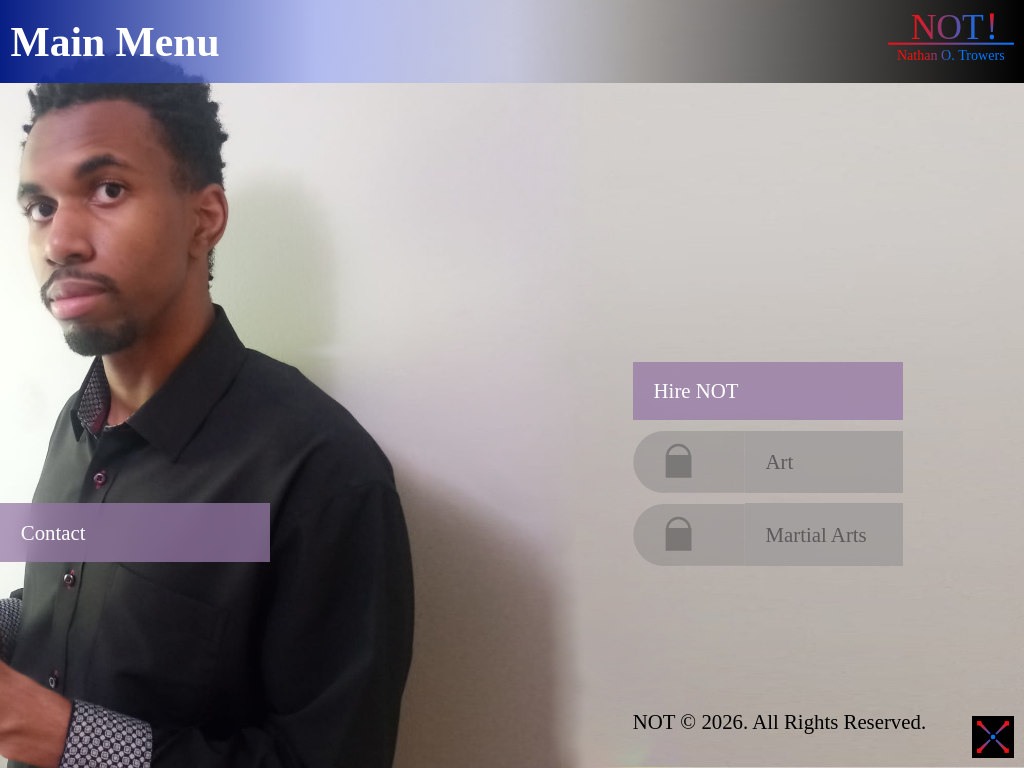
it: Landing Page › loads landing page, then navigates to the Hire NOT Page
Expected: the heading "Main Menu" is shown, [0,0,633,83]
Expected: the button "Art" is shown, [745,431,903,493]
Click the link "Hire NOT": (696, 391) [633,362,903,420]
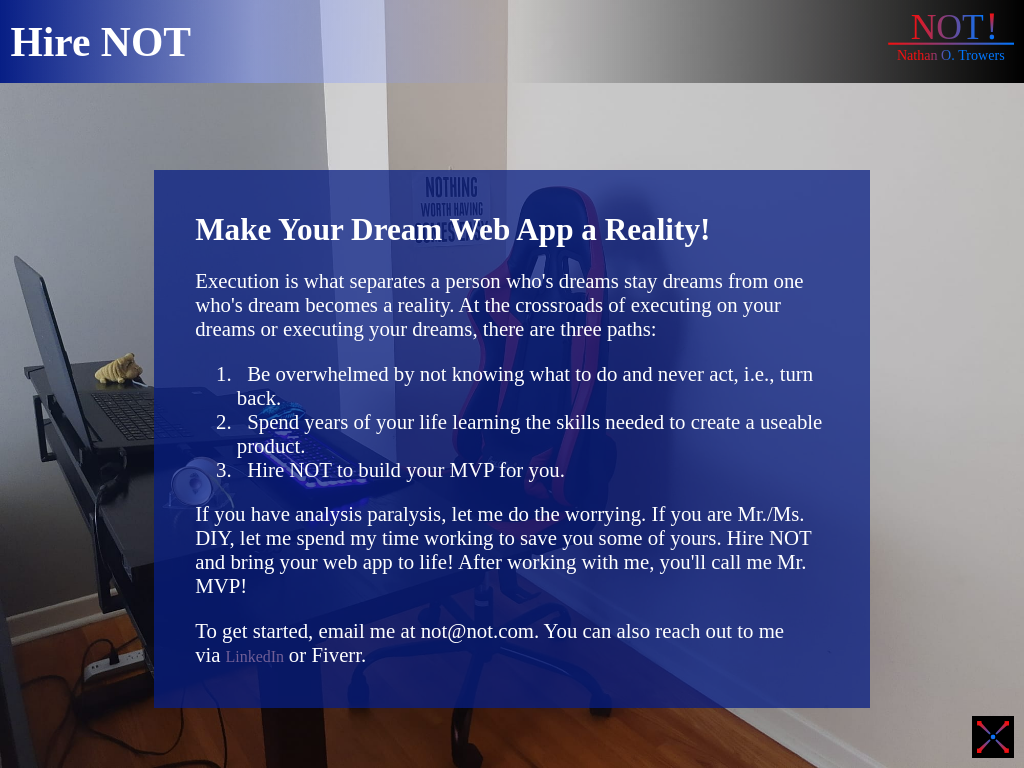
Result: the heading "Hire NOT" is shown at [0,0,512,83]
